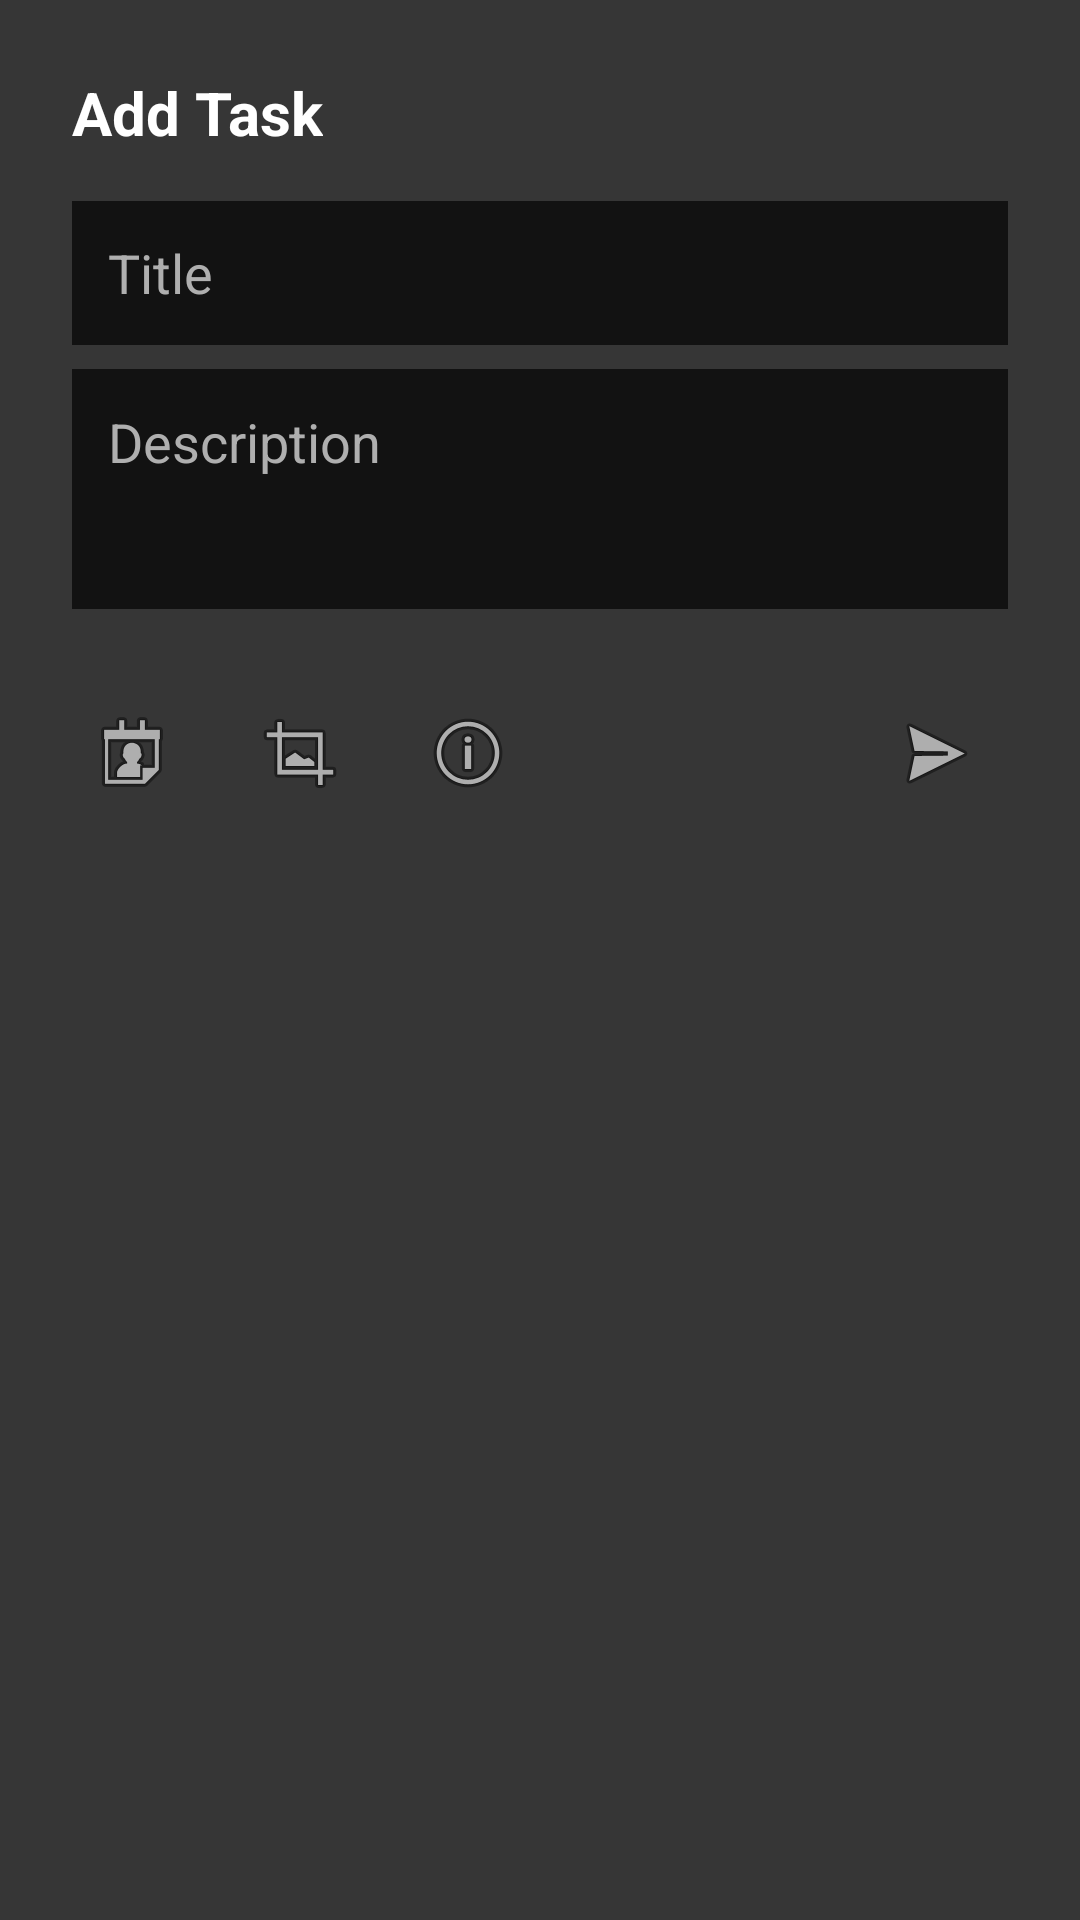

Where to tap for icons on this 1080×1920 app screen, as (x,y):
Send: (937,753)
